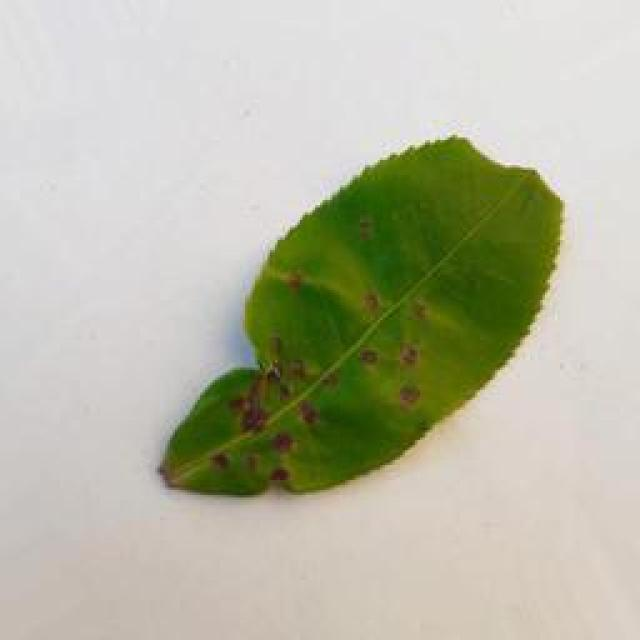Helopeltis: (156, 128, 565, 526)
